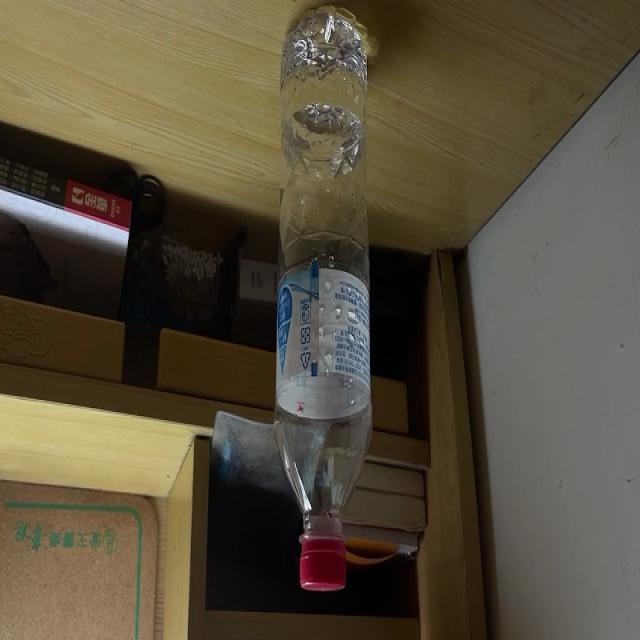Water: (276, 6, 370, 594)
